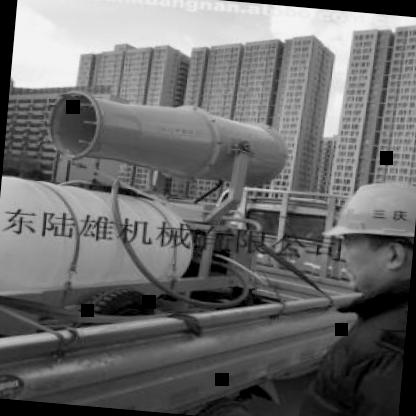helmet: (311, 169, 416, 303)
